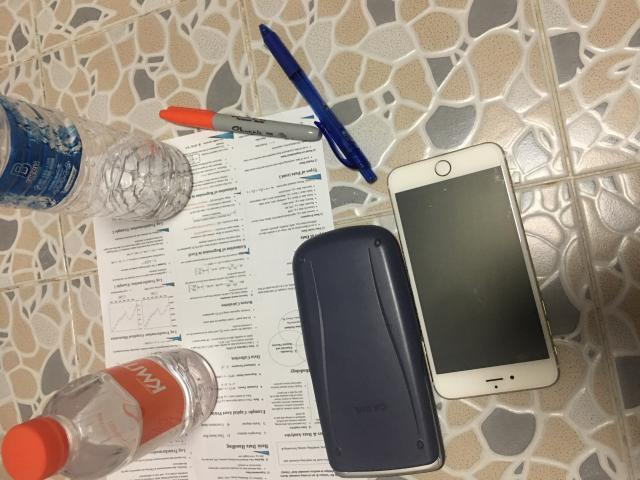Mobile phone: (388, 142, 559, 399)
Pen: (259, 24, 376, 182), (159, 106, 322, 141)
bottle: (2, 349, 218, 479), (0, 95, 192, 220)
paper: (86, 102, 368, 480)
